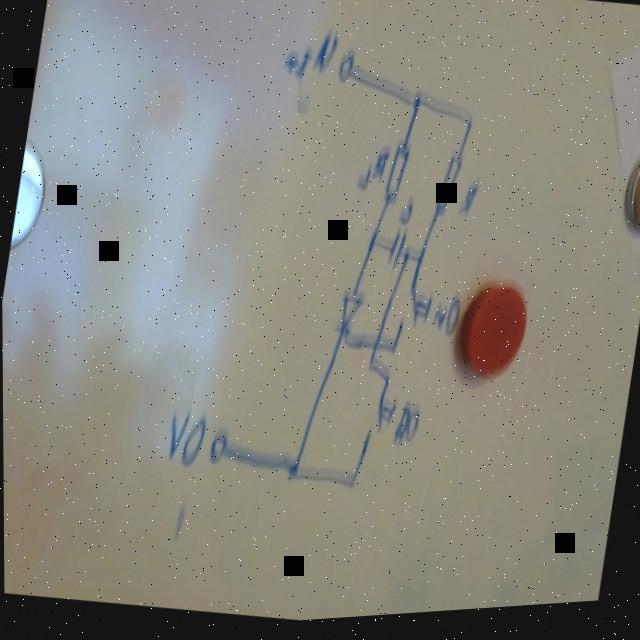capacitor: (383, 232, 407, 275)
crossover: (367, 339, 383, 358)
junction: (284, 463, 301, 486), (410, 96, 425, 116), (346, 478, 358, 495), (463, 120, 475, 136), (365, 362, 377, 377), (367, 239, 379, 253), (382, 376, 393, 389), (416, 256, 426, 269), (390, 347, 399, 357), (403, 255, 410, 266)
resistor: (433, 156, 464, 221), (381, 145, 411, 209)
switch: (398, 288, 433, 336), (366, 398, 397, 443)
terminal: (205, 430, 232, 468), (336, 51, 359, 90)
text: (281, 25, 341, 87), (164, 409, 208, 471), (355, 146, 392, 197), (391, 404, 422, 455), (430, 298, 463, 342), (457, 182, 481, 226), (396, 197, 416, 230)
thyristor: (330, 293, 367, 353)
